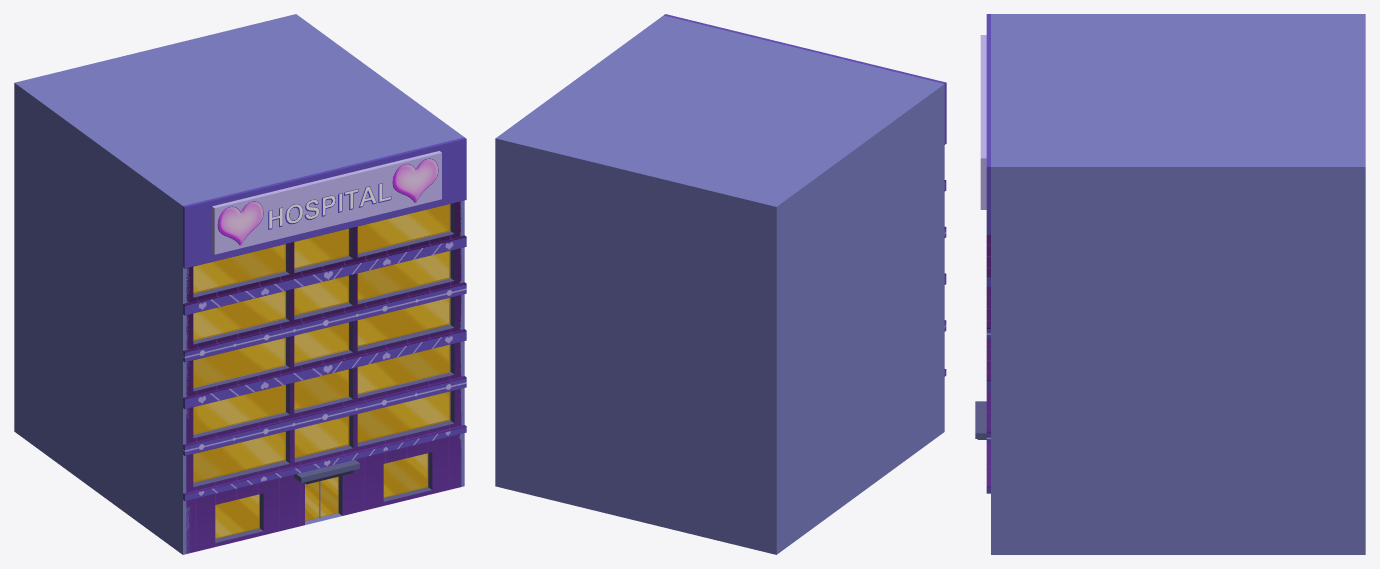
Rendered from Hospital.fbx.
3 views of the same model, side by side, from view 1: azimuth 30°, elevation 25°; view 2: azimuth 150°, elevation 25°; view 3: azimuth 270°, elevation 25° (orthographic). The views are drawn at different scales.
Visible parts, largest first — view 1: Bldg_Combo_5:Inside_Building, Hospital_polySurface1; view 2: Bldg_Combo_5:Inside_Building, Hospital_polySurface1; view 3: Bldg_Combo_5:Inside_Building, Hospital_polySurface1.
Part boxes in pixels (x1,y1,x2,y2): Bldg_Combo_5:Inside_Building: [14, 14, 464, 554]; Hospital_polySurface1: [183, 137, 466, 553]; Bldg_Combo_5:Inside_Building: [495, 15, 944, 554]; Hospital_polySurface1: [664, 14, 946, 376]; Bldg_Combo_5:Inside_Building: [991, 14, 1365, 554]; Hospital_polySurface1: [975, 14, 990, 493].
Size of the model in its own units: 12.78 by 15.12 by 13.79.
2 materials, 1 textured.
